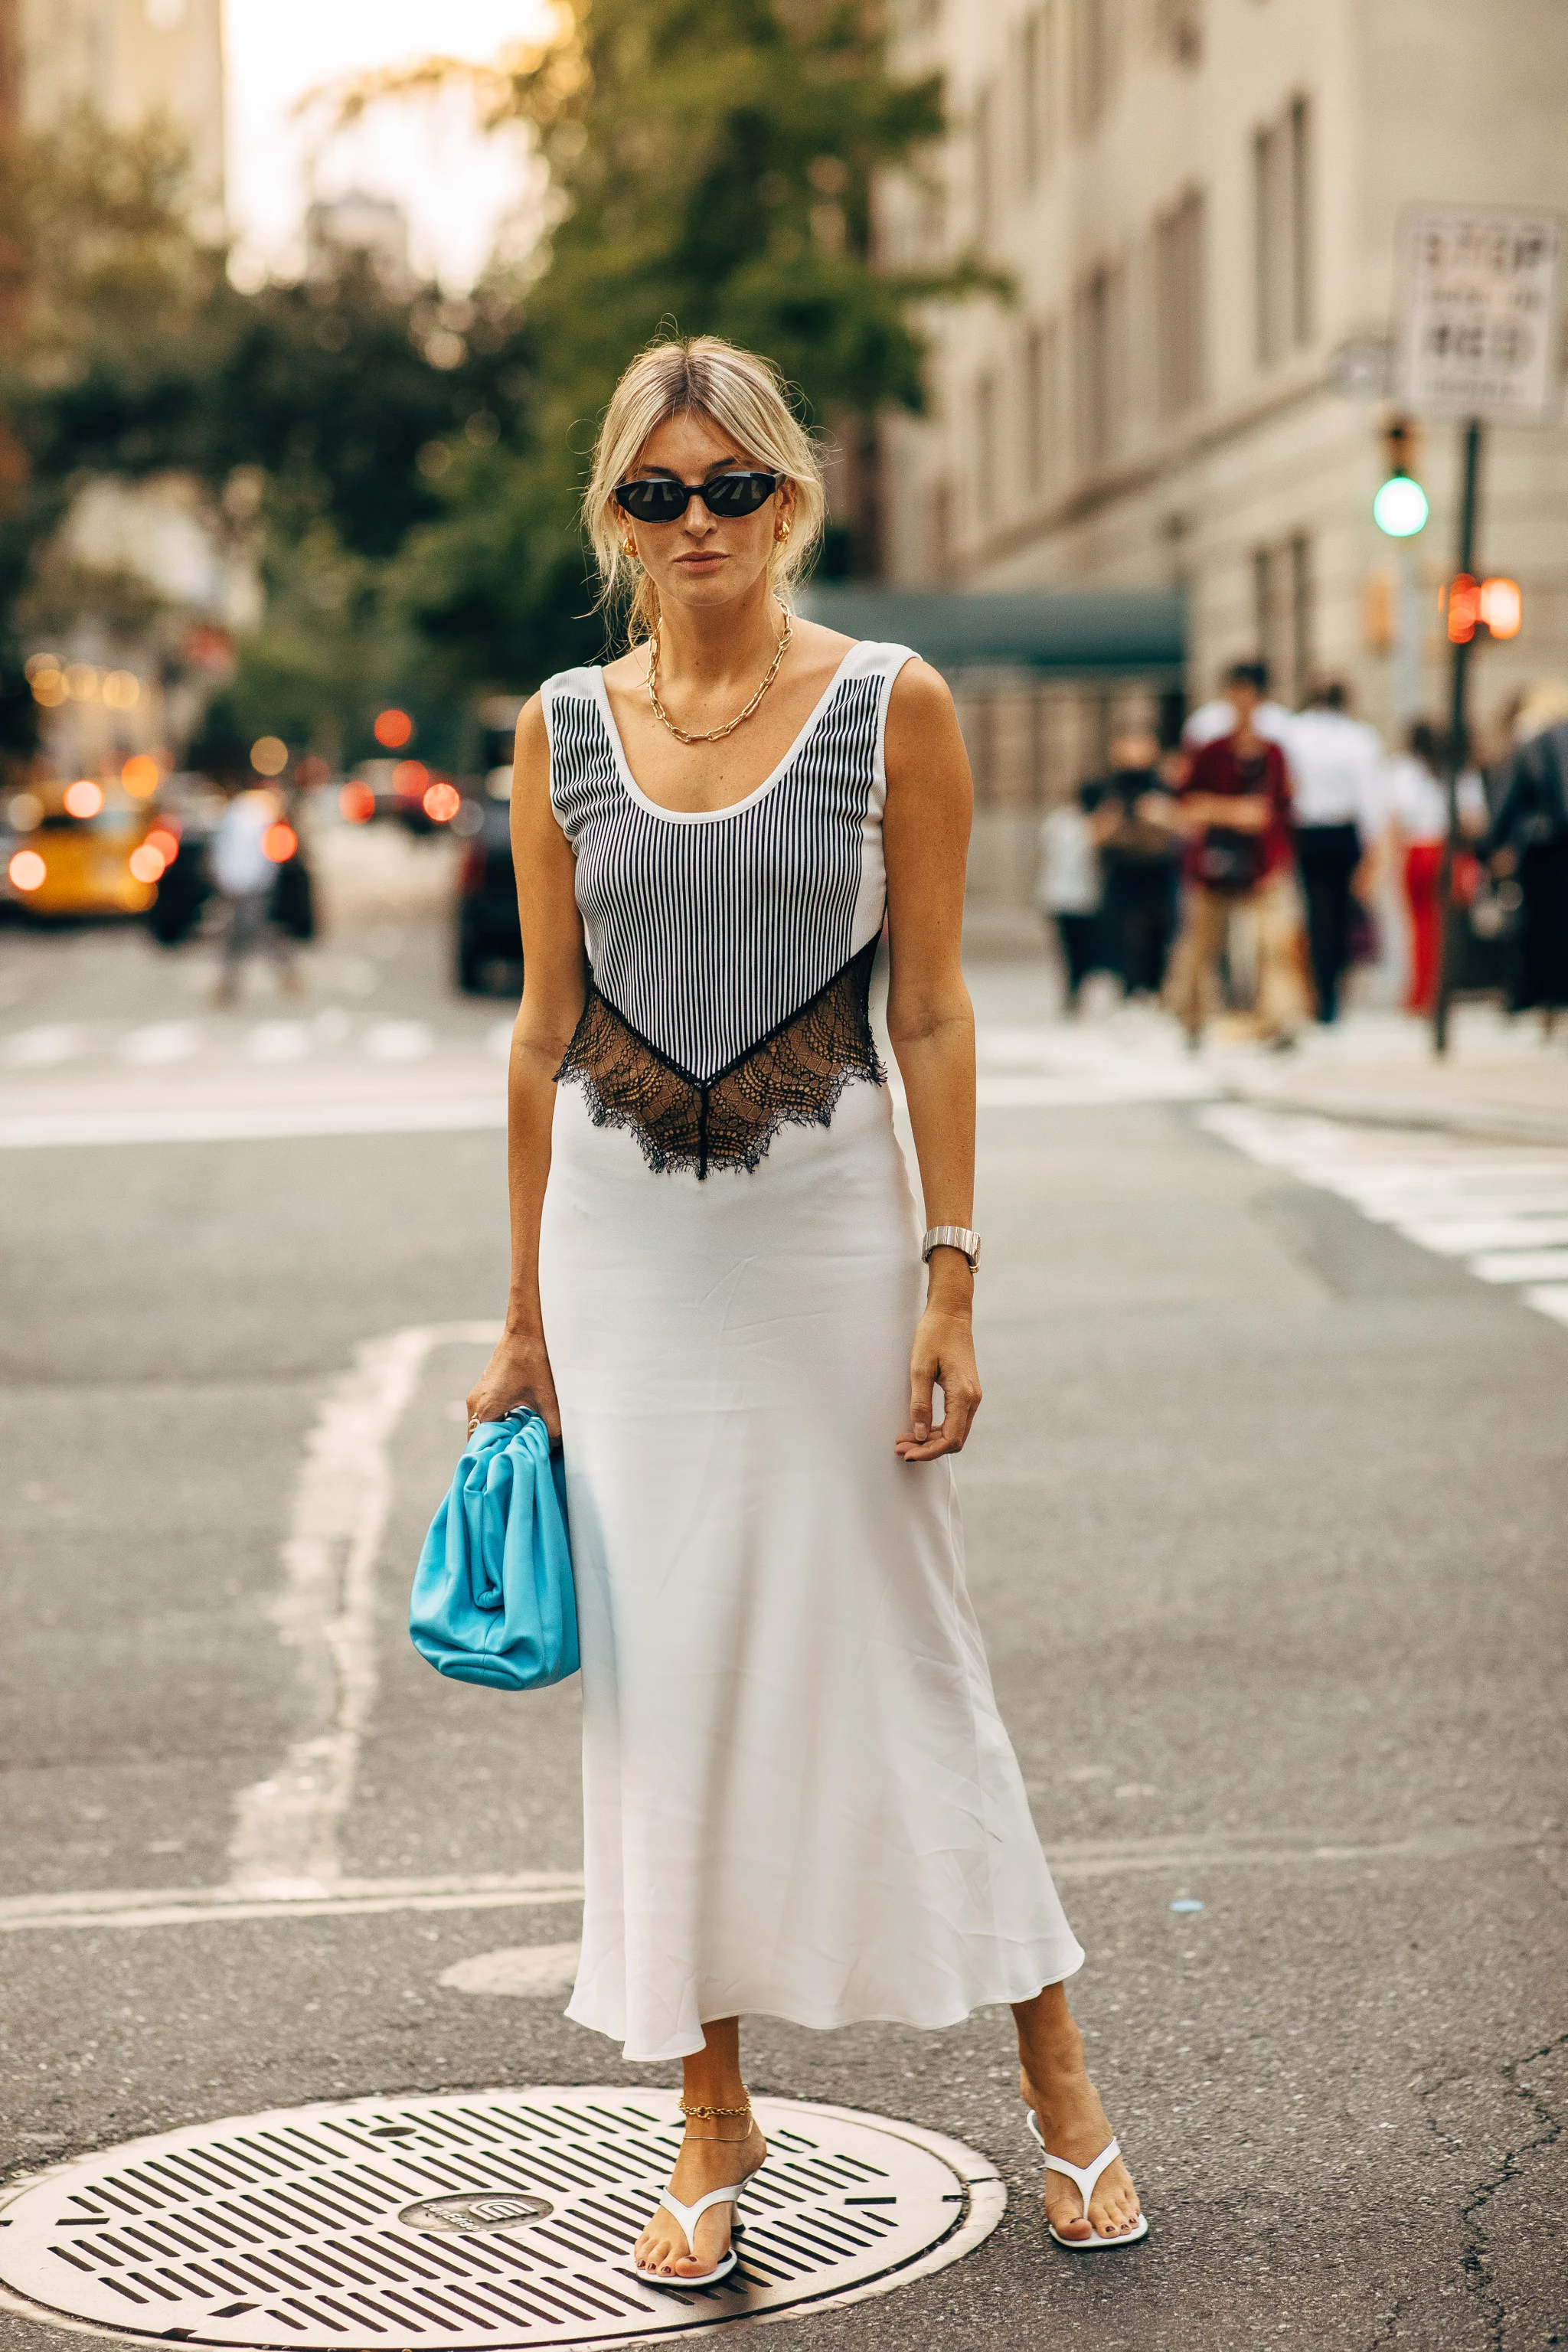person: (414, 340, 1170, 2299)
